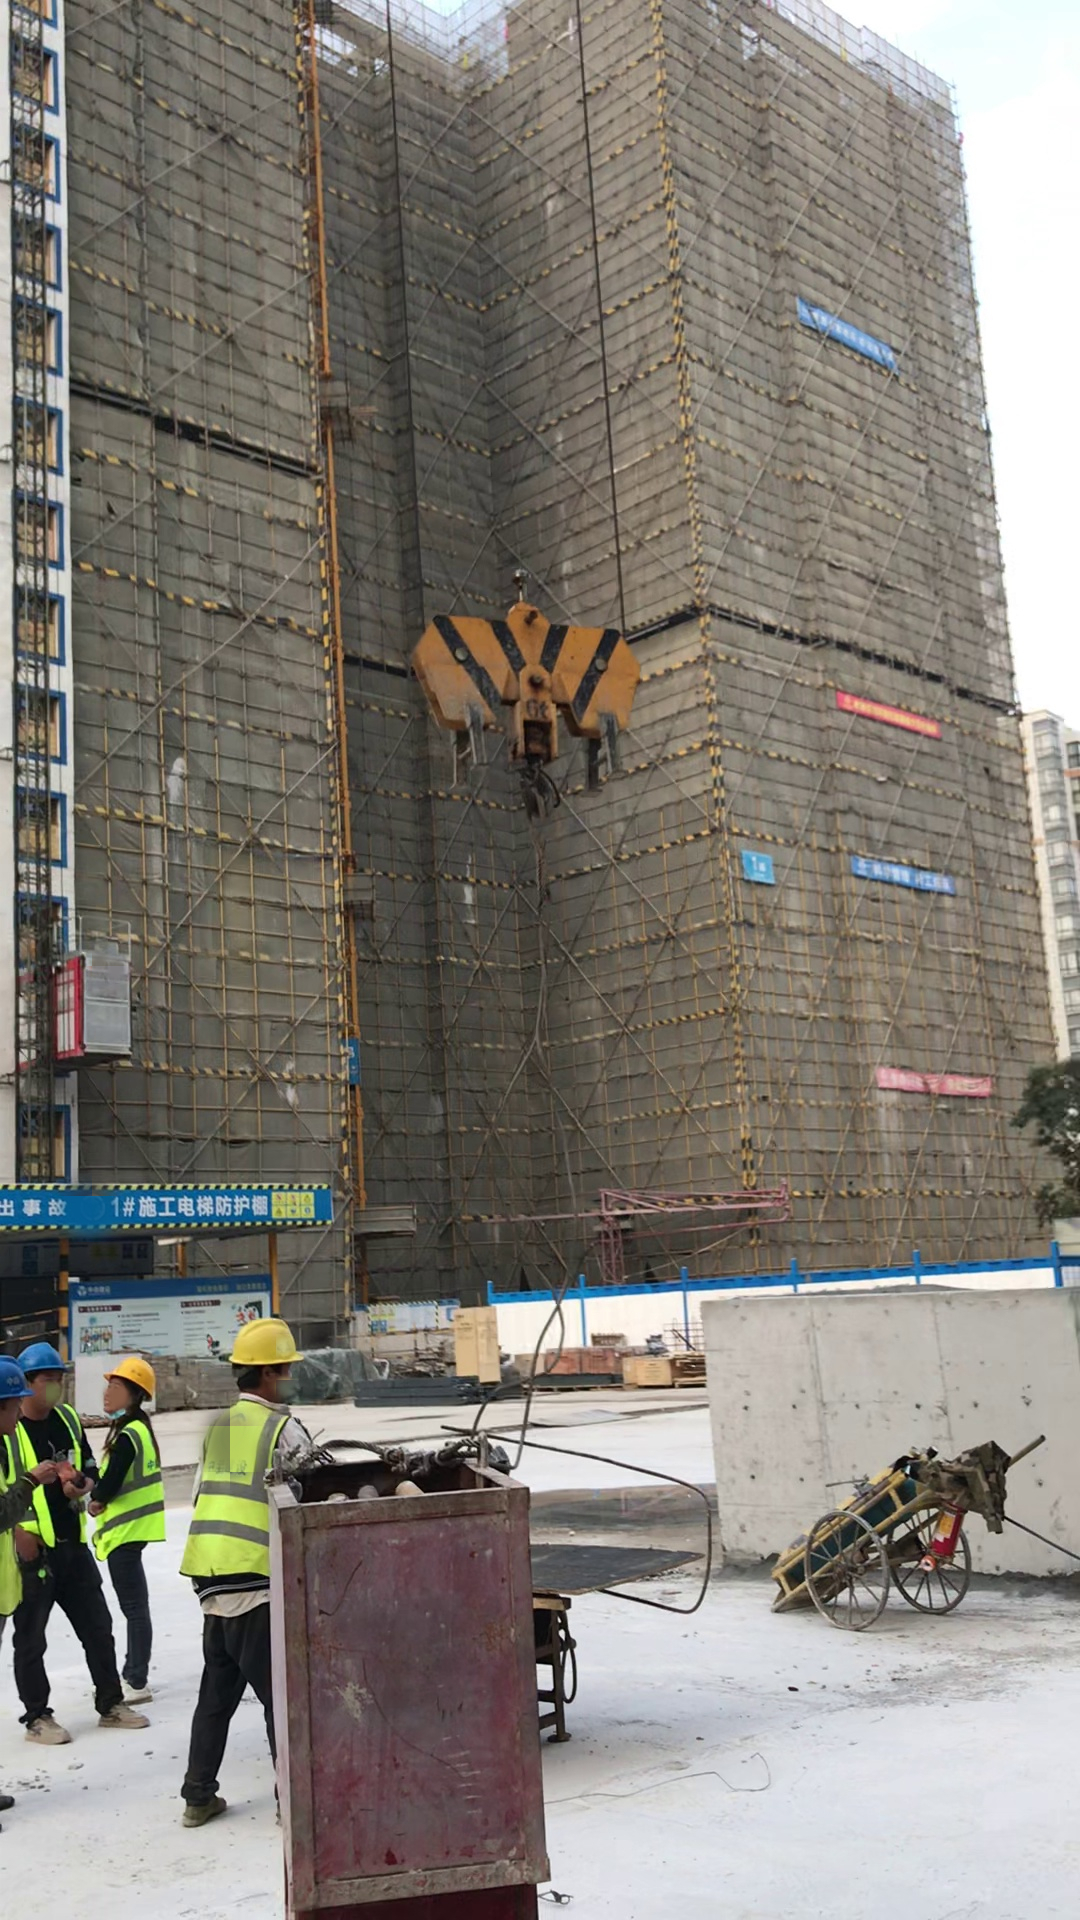handcart: (766, 1430, 1051, 1633)
helmet: (229, 1316, 303, 1370), (107, 1358, 159, 1401), (1, 1353, 40, 1398), (22, 1342, 72, 1371)
hook: (405, 571, 655, 822)
person: (189, 1309, 316, 1838), (3, 1340, 97, 1748), (95, 1353, 161, 1708)
slogan: (1, 1181, 336, 1229), (786, 286, 902, 383), (833, 684, 945, 745), (845, 848, 958, 906), (870, 1065, 999, 1103), (734, 839, 778, 886)
vest: (193, 1393, 279, 1593), (1, 1402, 80, 1609), (97, 1417, 165, 1557)
